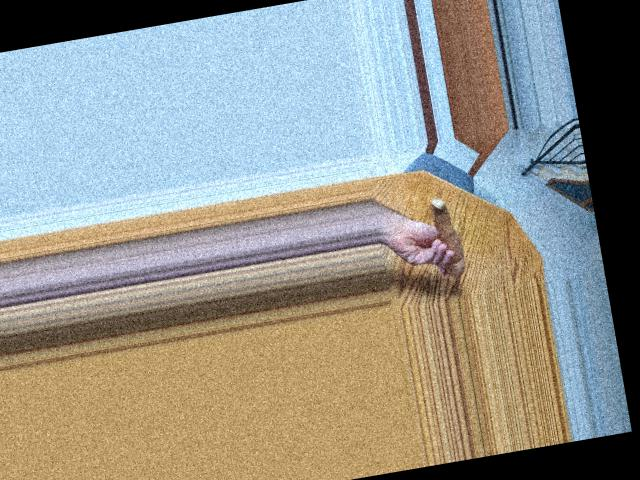sweet_potato: (422, 197, 470, 281)
